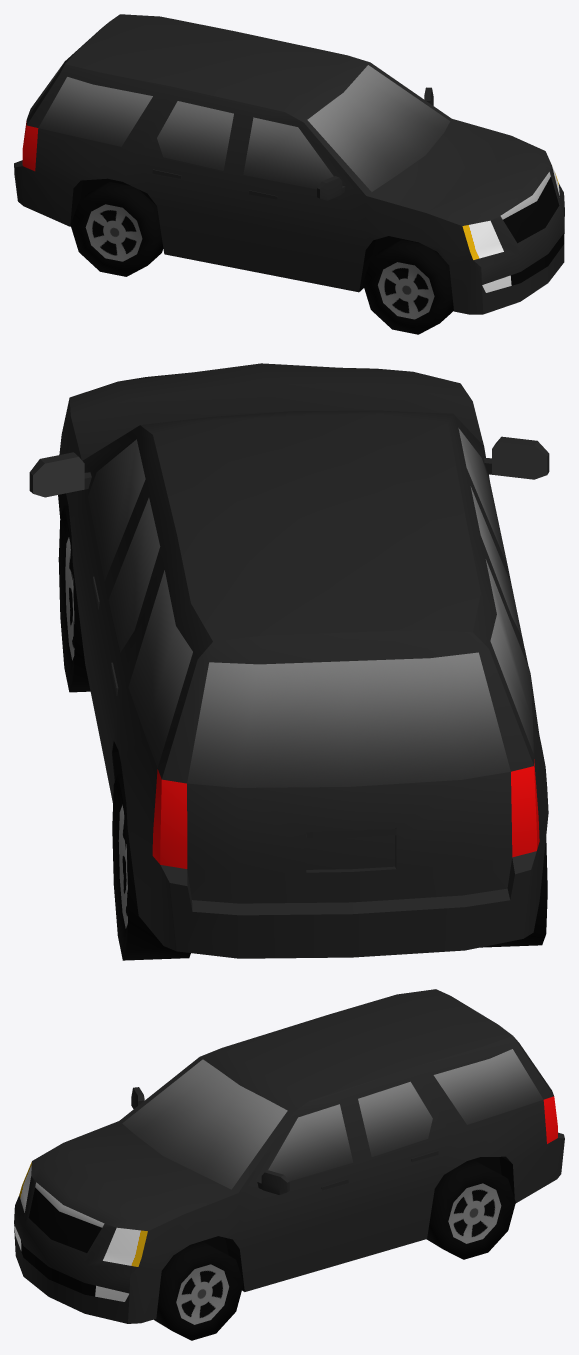
File: forviaCAR.glb
3 renders of one model, top to bottom at view 1: azimuth 30°, elevation 25°; view 2: azimuth 150°, elevation 25°; view 3: azimuth 270°, elevation 25°, orthographic. The views are drawn at different scales.
Visible parts, largest first — view 1: suv1.Body, suv1.Wheel.Bk.R, suv1.Wheel.Ft.R; view 2: suv1.Body, suv1.Wheel.Bk.L, suv1.Wheel.Ft.L, suv1.Wheel.Bk.R; view 3: suv1.Body, suv1.Wheel.Bk.L, suv1.Wheel.Ft.L.
Boxes of the visible parts, left/top/right/bottom form: suv1.Body: left=14, top=14, right=564, bottom=314; suv1.Wheel.Bk.R: left=70, top=182, right=163, bottom=276; suv1.Wheel.Ft.R: left=362, top=239, right=453, bottom=334; suv1.Body: left=29, top=363, right=549, bottom=958; suv1.Wheel.Bk.L: left=112, top=773, right=190, bottom=960; suv1.Wheel.Ft.L: left=58, top=505, right=90, bottom=692; suv1.Wheel.Bk.R: left=480, top=837, right=547, bottom=947; suv1.Body: left=14, top=989, right=564, bottom=1323; suv1.Wheel.Bk.L: left=426, top=1160, right=515, bottom=1259; suv1.Wheel.Ft.L: left=154, top=1241, right=243, bottom=1340.
Size of the model in its own units: 0.078 by 0.0361 by 0.0921.
3 materials, 3 textured.
